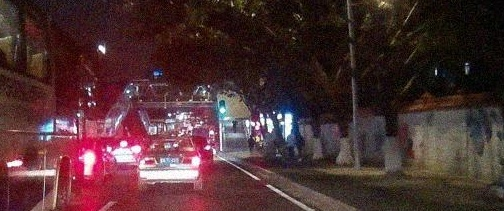L_light: (141, 158, 157, 165)
R_light: (182, 157, 199, 164)
T_light: (167, 141, 175, 144)
night-right: (139, 137, 201, 192)
